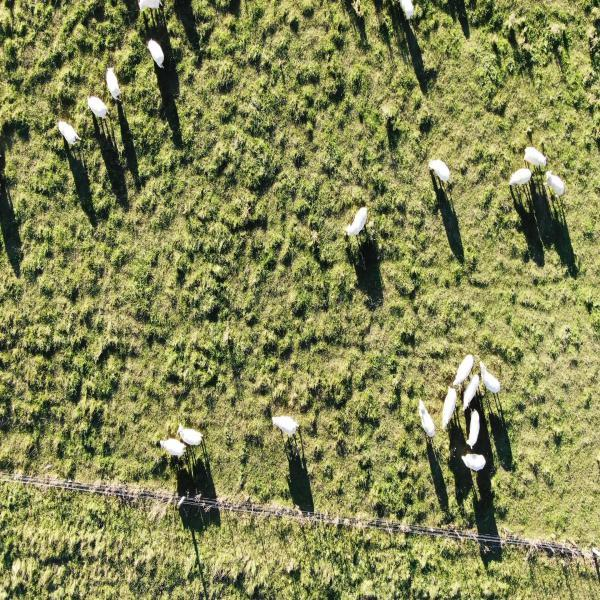sheep: (345, 204, 369, 239), (480, 360, 503, 396), (417, 400, 437, 441), (463, 373, 482, 415), (451, 354, 473, 390), (105, 64, 125, 103), (442, 385, 459, 430), (146, 36, 167, 72), (57, 119, 82, 148), (86, 92, 110, 121), (273, 414, 301, 438), (466, 408, 482, 450), (544, 169, 566, 198), (461, 450, 487, 474), (177, 424, 204, 447), (430, 157, 452, 184), (161, 438, 188, 459), (525, 146, 548, 170), (509, 167, 533, 187), (396, 1, 417, 21), (137, 0, 166, 12)
